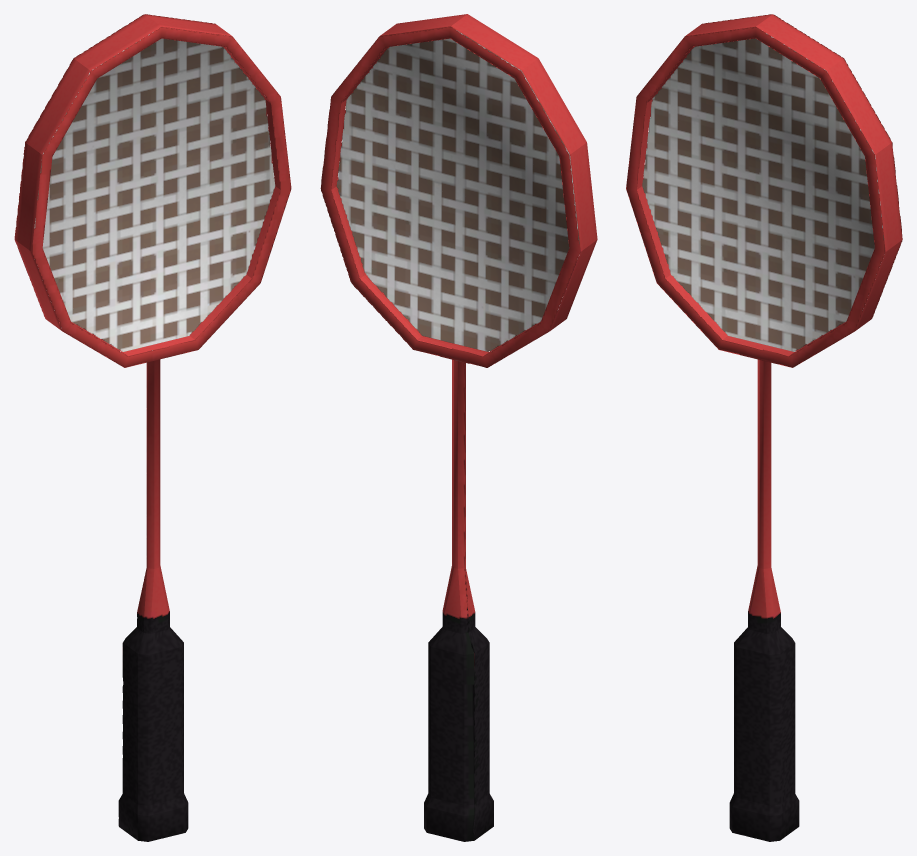
File: BadmintonRacket_Red.fbx
3 renders of one model, left to right at view 1: azimuth 30°, elevation 25°; view 2: azimuth 150°, elevation 25°; view 3: azimuth 330°, elevation 25°, orthographic.
Visible parts, largest first — view 1: badminton racket; view 2: badminton racket; view 3: badminton racket.
Boxes of the visible parts, left/top/right/bottom form: badminton racket: left=14, top=14, right=291, bottom=841; badminton racket: left=320, top=14, right=597, bottom=841; badminton racket: left=626, top=14, right=902, bottom=841.
Size of the model in its own units: 51.54 by 153 by 9.24.
